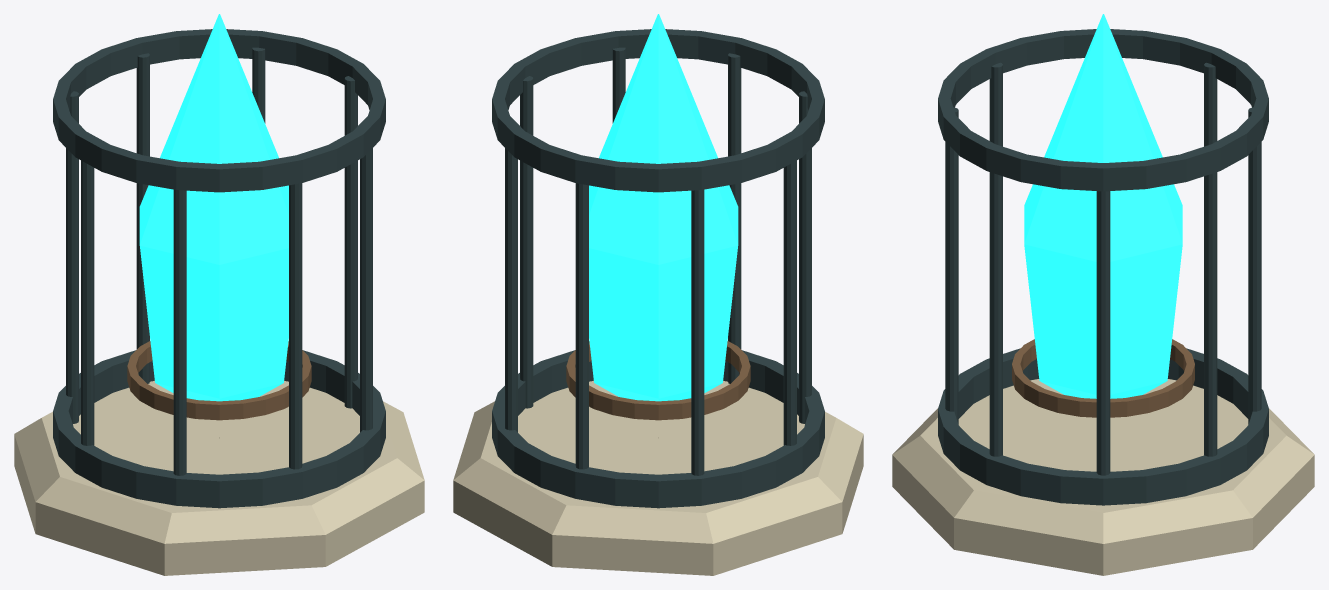
The model's file is LighthouseCrystalCage.glb.
3 renders of one model, left to right at view 1: azimuth 30°, elevation 25°; view 2: azimuth 150°, elevation 25°; view 3: azimuth 270°, elevation 25°, orthographic.
Visible parts, largest first — view 1: Stone octagonal socket, Luminous faceted crystal, Upper iron rim, Lower iron rim, Cage upright 00, Cage upright 05, Crystal cradle, Cage upright 06, Cage upright 04, Cage upright 07, Cage upright 03, Cage upright 02 (+1 smaller); view 2: Stone octagonal socket, Luminous faceted crystal, Upper iron rim, Lower iron rim, Cage upright 00, Cage upright 03, Crystal cradle, Cage upright 02, Cage upright 04, Cage upright 01, Cage upright 05, Cage upright 06 (+1 smaller); view 3: Stone octagonal socket, Luminous faceted crystal, Upper iron rim, Lower iron rim, Crystal cradle, Cage upright 00, Cage upright 01, Cage upright 07, Cage upright 02, Cage upright 06, Cage upright 03, Cage upright 05.
Boxes of the visible parts, x1=… form: Stone octagonal socket: x1=14, y1=381, x2=424, y2=575; Luminous faceted crystal: x1=139, y1=14, x2=288, y2=401; Upper iron rim: x1=53, y1=29, x2=385, y2=192; Lower iron rim: x1=53, y1=350, x2=385, y2=508; Cage upright 00: x1=344, y1=76, x2=357, y2=408; Cage upright 05: x1=173, y1=189, x2=186, y2=475; Crystal cradle: x1=127, y1=341, x2=311, y2=420; Cage upright 06: x1=289, y1=183, x2=302, y2=469; Cage upright 04: x1=81, y1=160, x2=94, y2=445; Cage upright 07: x1=360, y1=148, x2=372, y2=432; Cage upright 03: x1=66, y1=91, x2=78, y2=423; Cage upright 02: x1=136, y1=53, x2=149, y2=383; Stone octagonal socket: x1=453, y1=381, x2=863, y2=575; Luminous faceted crystal: x1=589, y1=14, x2=738, y2=401; Upper iron rim: x1=492, y1=29, x2=824, y2=192; Lower iron rim: x1=492, y1=350, x2=824, y2=508; Cage upright 00: x1=520, y1=76, x2=533, y2=408; Cage upright 03: x1=691, y1=189, x2=704, y2=475; Crystal cradle: x1=566, y1=341, x2=750, y2=420; Cage upright 02: x1=575, y1=183, x2=588, y2=469; Cage upright 04: x1=783, y1=160, x2=796, y2=445; Cage upright 01: x1=505, y1=148, x2=517, y2=432; Cage upright 05: x1=799, y1=91, x2=811, y2=423; Cage upright 06: x1=728, y1=53, x2=741, y2=383; Stone octagonal socket: x1=892, y1=379, x2=1314, y2=575; Luminous faceted crystal: x1=1024, y1=14, x2=1182, y2=398; Upper iron rim: x1=938, y1=29, x2=1268, y2=191; Lower iron rim: x1=938, y1=348, x2=1268, y2=505; Crystal cradle: x1=1012, y1=339, x2=1194, y2=417; Cage upright 00: x1=1096, y1=191, x2=1110, y2=475; Cage upright 01: x1=1204, y1=172, x2=1217, y2=456; Cage upright 07: x1=989, y1=172, x2=1002, y2=456; Cage upright 02: x1=1248, y1=107, x2=1261, y2=424; Cage upright 06: x1=945, y1=107, x2=958, y2=424; Cage upright 03: x1=1204, y1=62, x2=1217, y2=146; Cage upright 05: x1=989, y1=62, x2=1002, y2=146.
Size of the model in its own units: 6 by 7.4 by 6.
